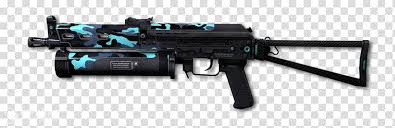gun: (26, 14, 370, 110)
